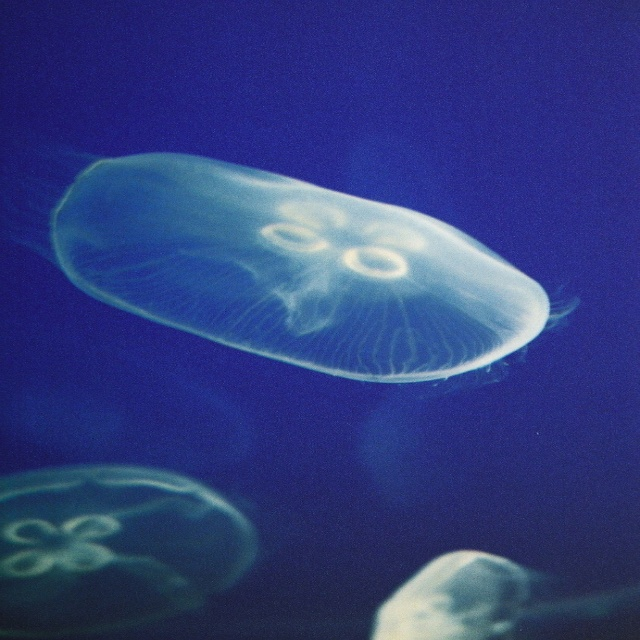Jellyfish: (0, 150, 581, 398), (1, 464, 259, 638), (367, 544, 640, 640)
